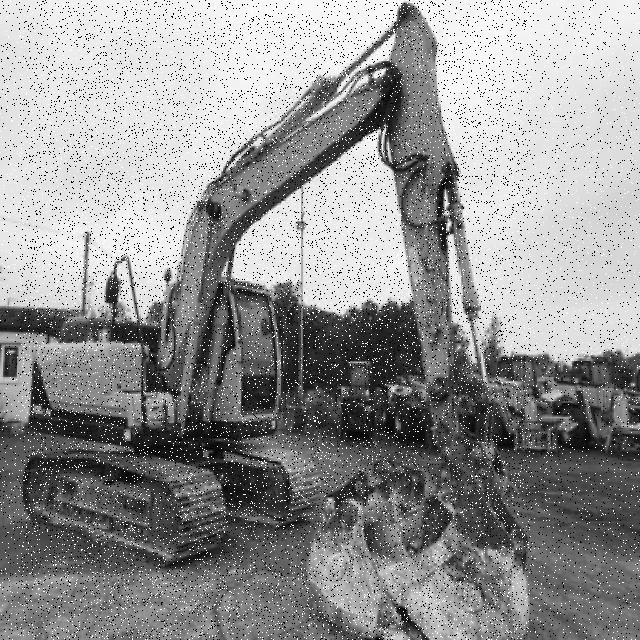Construction Equipment: (20, 2, 531, 640)
